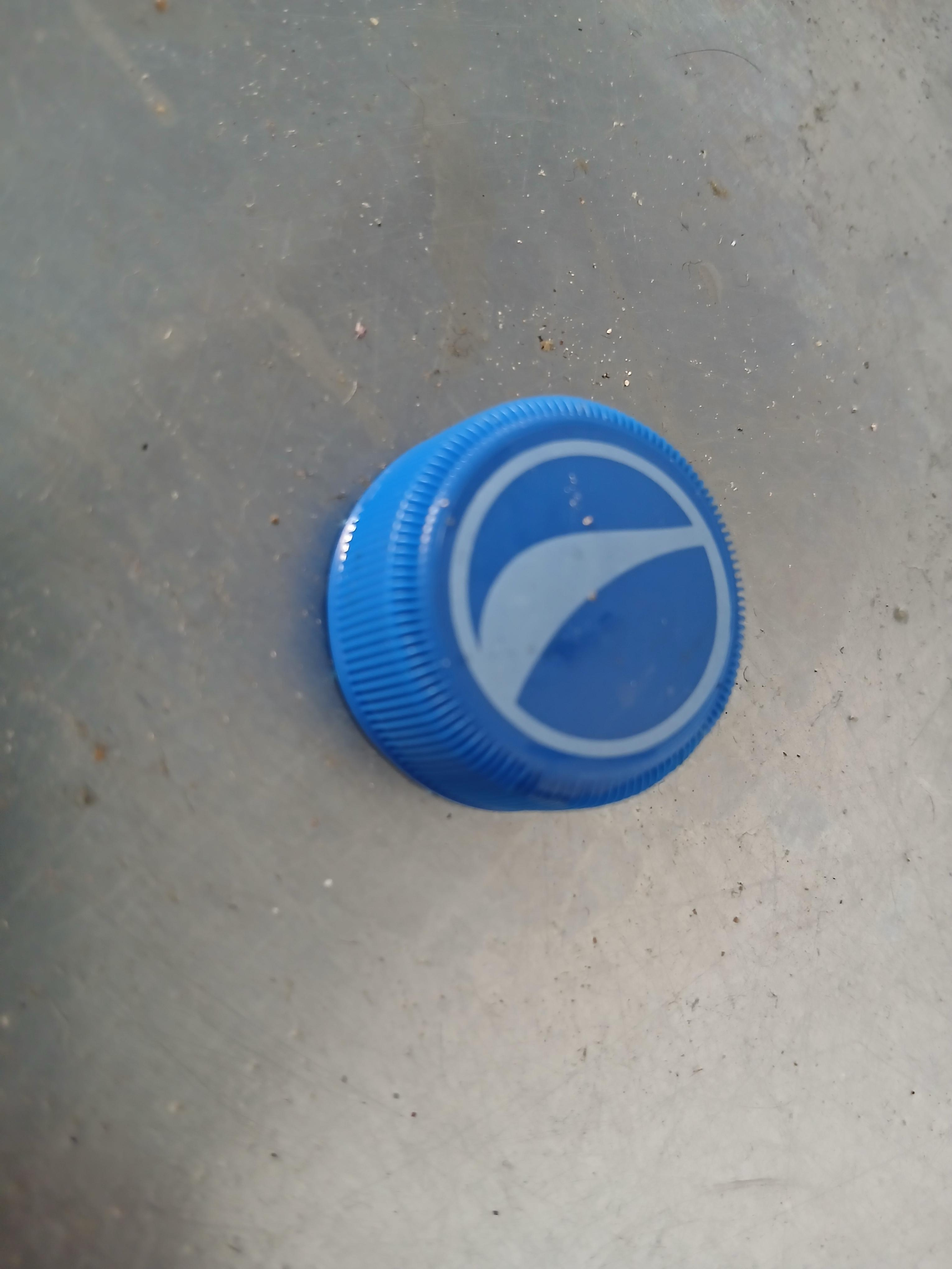Plastico: (319, 393, 745, 809)
